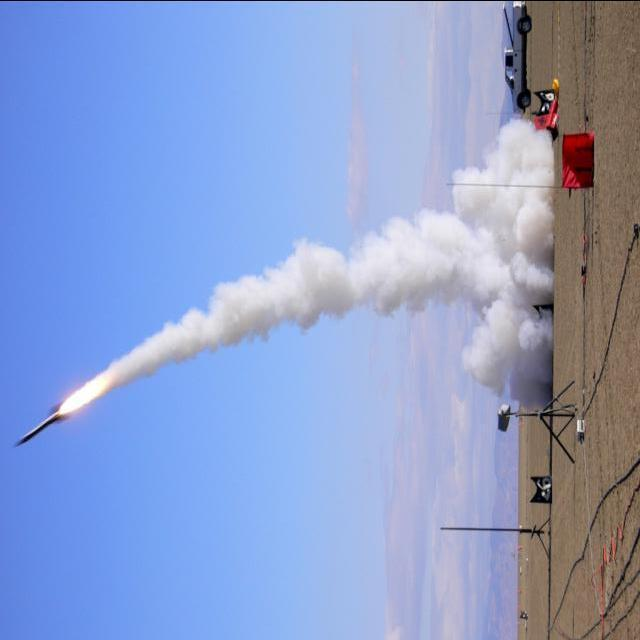missile: (12, 398, 70, 451)
